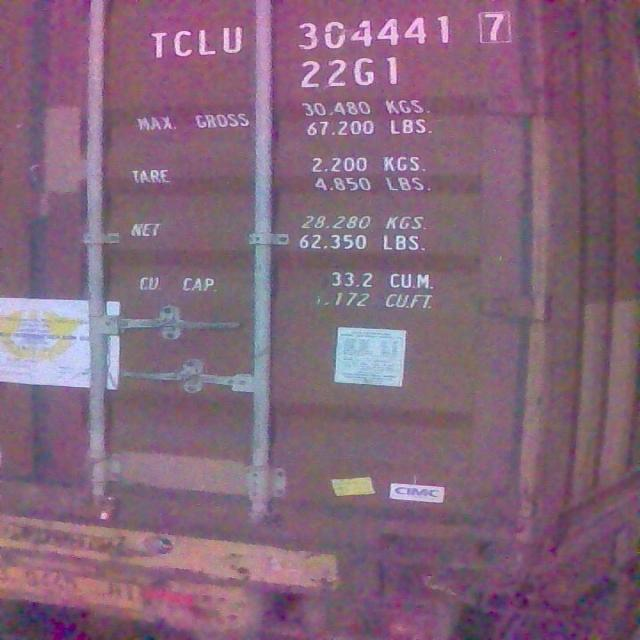seal: (94, 492, 122, 524)
